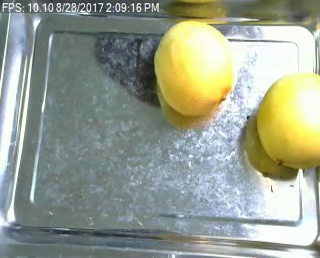Mango: (151, 19, 236, 114), (256, 72, 320, 168)
